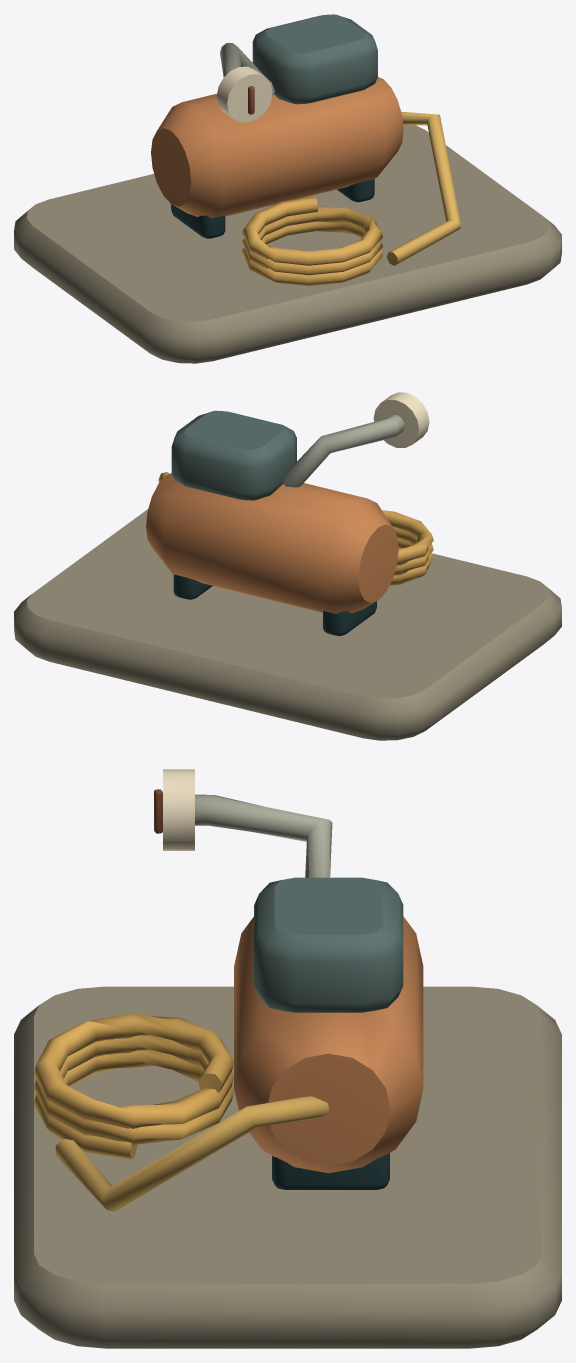
Rendered from air_service.glb.
3 views of the same model, one above another, from view 1: azimuth 30°, elevation 25°; view 2: azimuth 150°, elevation 25°; view 3: azimuth 270°, elevation 25° (orthographic). The views are drawn at different scales.
Visible parts, largest first — view 1: Air_service; view 2: Air_service; view 3: Air_service.
Part boxes in pixels (<box>): Air_service: <box>14,14,561,363</box>; Air_service: <box>14,392,561,740</box>; Air_service: <box>14,769,561,1348</box>.
Bounding box in the file's own units: 1.64 × 0.895 × 1.21.
